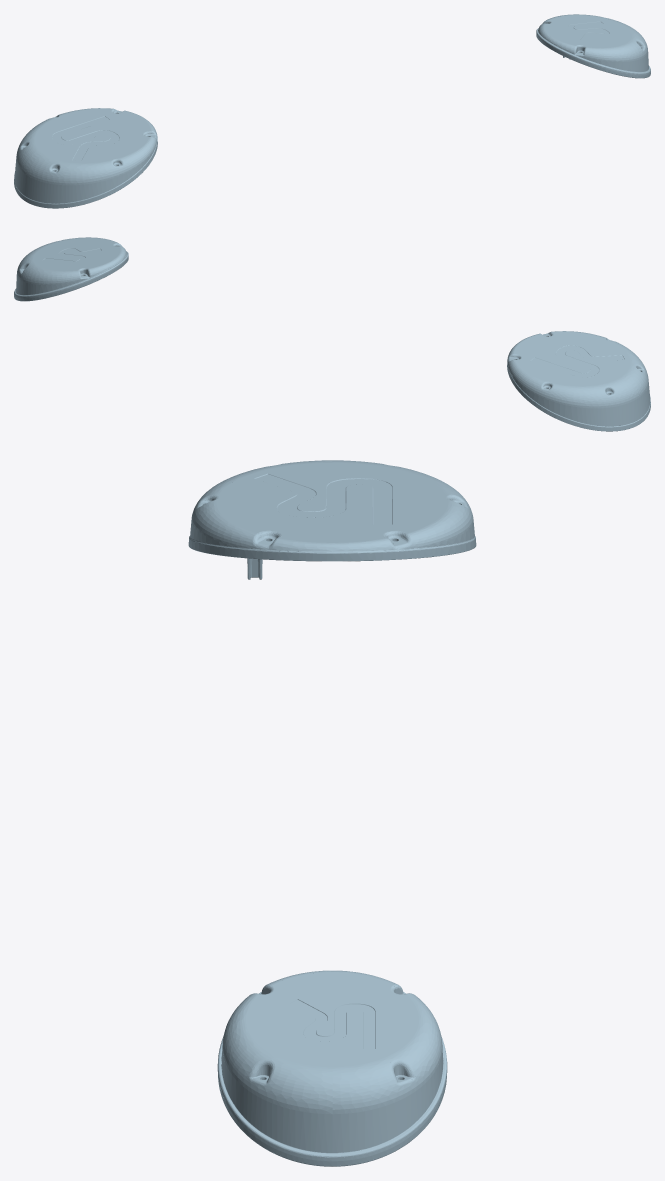
3 renders of one model, top to bottom at view 1: azimuth 30°, elevation 25°; view 2: azimuth 150°, elevation 25°; view 3: azimuth 270°, elevation 25°, orthographic. The views are drawn at different scales.
Visible parts, largest first — view 1: ID251_001P1u; view 2: ID251_001P1u; view 3: ID251_001P1u.
Part boxes in pixels (box(x1,y1,x2,y2)): ID251_001P1u: box(14, 14, 650, 208); ID251_001P1u: box(14, 237, 650, 431); ID251_001P1u: box(188, 460, 476, 1166).
Size of the model in its own units: 0.7479 by 0.0787 by 0.1504.
